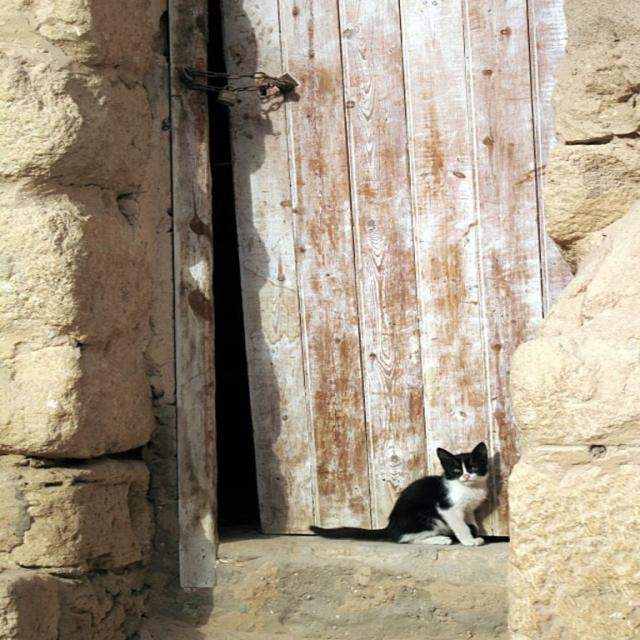Cat: (311, 444, 489, 542)
